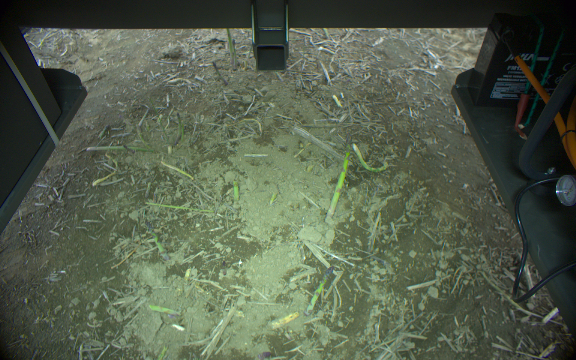aspa: (326, 151, 360, 221), (303, 265, 336, 316), (139, 219, 171, 263), (351, 140, 389, 175), (87, 142, 158, 155), (224, 27, 239, 70), (208, 61, 230, 90), (135, 124, 155, 154), (169, 111, 185, 148), (146, 304, 182, 319), (230, 180, 242, 203)
